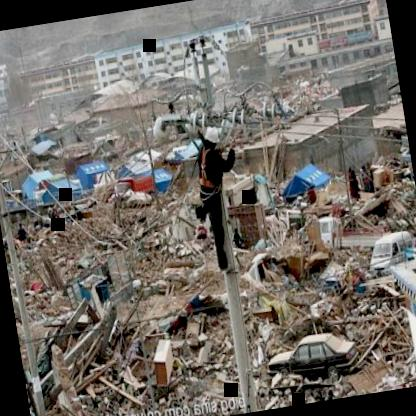helmet: (199, 122, 222, 150)
